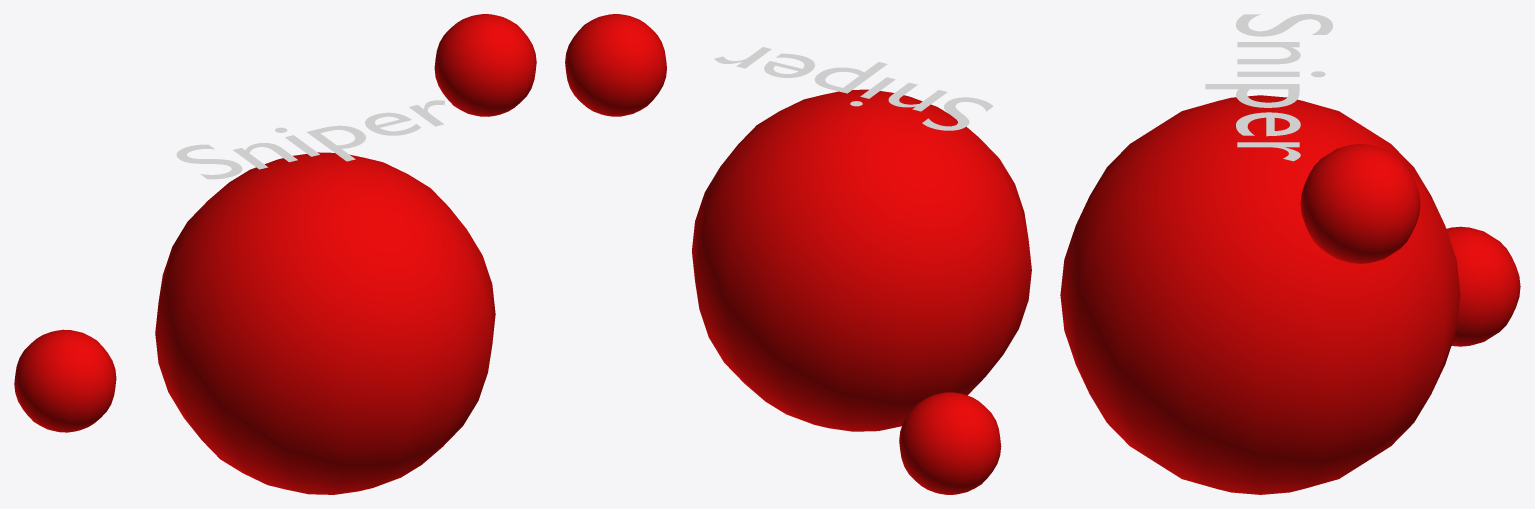
The model's file is actor_attack_sniper.fbx.
3 views of the same model, side by side, from view 1: azimuth 30°, elevation 25°; view 2: azimuth 150°, elevation 25°; view 3: azimuth 270°, elevation 25° (orthographic). The views are drawn at different scales.
Parts seen in each view (by area): view 1: Sphere, Sphere.001, Sphere.002, Font; view 2: Sphere, Sphere.001, Sphere.002, Font; view 3: Sphere, Sphere.001, Sphere.002, Font.
Boxes of the visible parts, x1,y1,x2,y2 form: Sphere: (155, 152, 495, 494); Sphere.001: (434, 14, 536, 116); Sphere.002: (14, 329, 116, 432); Font: (176, 100, 444, 179); Sphere: (692, 89, 1031, 431); Sphere.001: (565, 14, 666, 116); Sphere.002: (899, 392, 1001, 494); Font: (714, 47, 993, 130); Sphere: (1060, 95, 1460, 494); Sphere.001: (1300, 144, 1420, 263); Sphere.002: (1446, 226, 1520, 346); Font: (1205, 14, 1332, 161).
Bounding box in the file's own units: 3.14 × 2.44 × 2.3.
